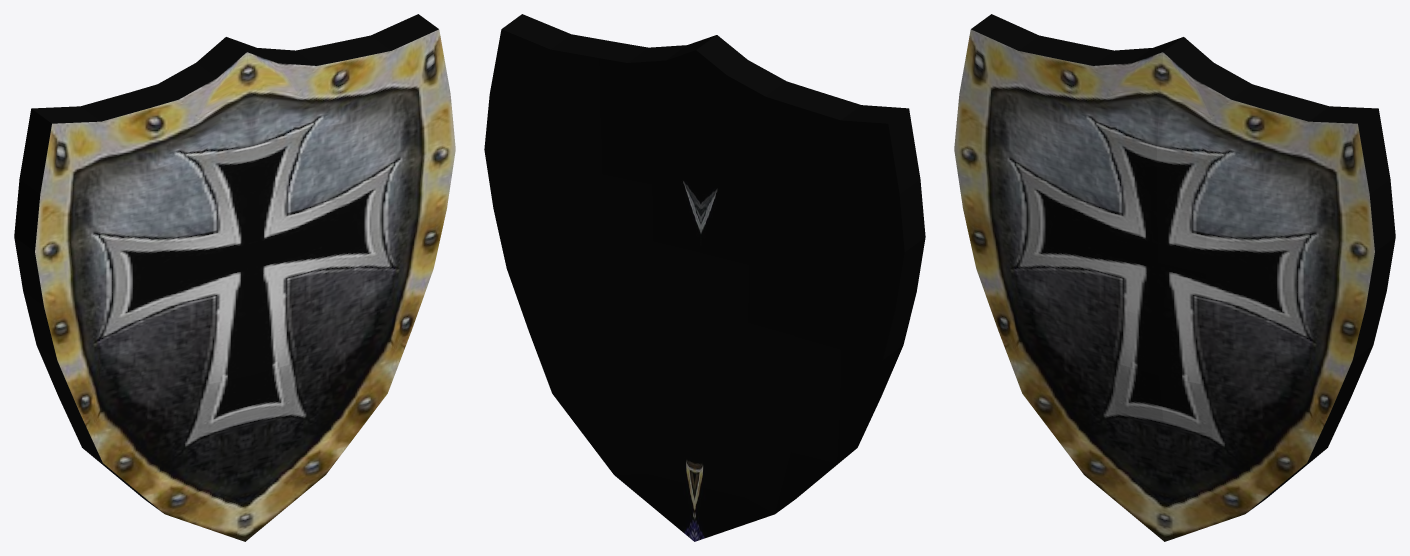
The model's file is shield.fbx.
3 views of the same model, side by side, from view 1: azimuth 30°, elevation 25°; view 2: azimuth 150°, elevation 25°; view 3: azimuth 330°, elevation 25° (orthographic).
Parts seen in each view (by area): view 1: Cube; view 2: Cube; view 3: Cube.
Part boxes in pixels (x1,y1,x2,y2): Cube: (14,14,455,541); Cube: (484,14,925,541); Cube: (954,14,1395,541).
Size of the model in its own units: 2.17 by 2.42 by 0.2561.
